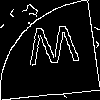W: (25, 24, 82, 75)
